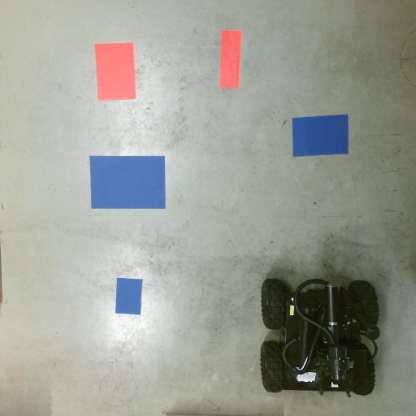Blue: (87, 153, 167, 210), (290, 113, 351, 157), (113, 275, 144, 316)
Jaguar: (260, 274, 380, 402)
Red: (93, 41, 139, 102), (217, 29, 243, 91)
